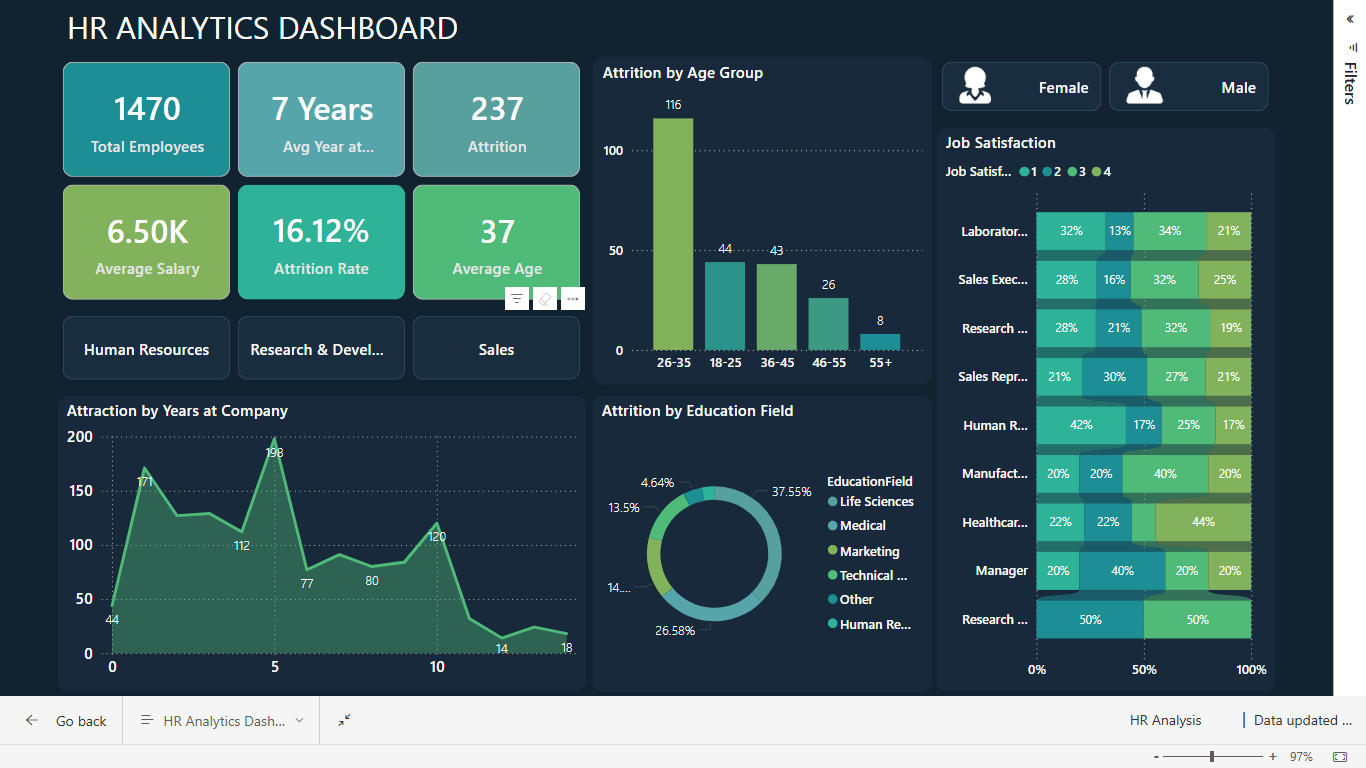

The dashboard page shown, as its layout file describes it:
{"tool":"powerbi","page":{"name":"HR Analytics Dashboard","canvas":[1280,720],"ordinal":0},"visuals":[{"type":"areaChart","title":"Attraction by Years at Company","fields":{"Category":["HR_Analytics.YearsAtCompany"],"Y":["DAX Measures.Count_of_Attraction"]},"box":[10,410.1,546.2,305.5],"z":0},{"type":"donutChart","title":"Attrition by Education Field","fields":{"Y":["DAX Measures.Employee_Attrition"],"Category":["HR_Analytics.EducationField"]},"box":[564.2,410,351.2,305.6],"z":1000},{"type":"columnChart","title":"Attrition by Age Group","fields":{"Category":["HR_Analytics.AgeGroup"],"Y":["DAX Measures.Employee_Attrition"]},"box":[564.2,58.8,351.2,339.4],"z":2000},{"type":"hundredPercentStackedBarChart","title":"Job Satisfaction","fields":{"Category":["HR_Analytics.JobRole"],"Y":["DAX Measures.Employee_Attrition"],"Series":["HR_Analytics.JobSatisfaction"]},"box":[919.7,132.8,350.3,582.7],"z":3000},{"type":"cardVisual","fields":{"Data":["DAX Measures.Employee_Count","DAX Measures.Years_With_Text","DAX Measures.Employee_Attrition","DAX Measures.Avg_Salary","DAX Measures.Attrition%","DAX Measures.Avg_Age"]},"box":[10.3,58.8,546.6,257.1],"z":4000},{"type":"advancedSlicerVisual","fields":{"Values":["HR_Analytics.Gender"]},"box":[919.8,58.8,349.7,61.7],"z":5000},{"type":"image","box":[1109.4,64.7,51.4,48.5],"z":7500},{"type":"image","box":[934.5,64.7,50,48.5],"z":8000},{"type":"advancedSlicerVisual","fields":{"Values":["HR_Analytics.Department"]},"box":[10,322.1,546.2,76.4],"z":8001},{"type":"textbox","box":[10.3,0,423.2,52.9],"z":8002}]}

Visuals, with their boxes on the page's 1280x720 design canvas (x1, y1, x2, y2). These are canvas units, not pixel positions in the 1366x768 screenshot, which may show the page scaled, cropped or inside an application window:
"Attraction by Years at Company" areaChart: box(10, 410, 556, 716)
"Attrition by Education Field" donutChart: box(564, 410, 915, 716)
"Attrition by Age Group" columnChart: box(564, 59, 915, 398)
"Job Satisfaction" hundredPercentStackedBarChart: box(920, 133, 1270, 716)
cardVisual - DAX Measures.Employee_Count x DAX Measures.Years_With_Text: box(10, 59, 557, 316)
advancedSlicerVisual - HR_Analytics.Gender: box(920, 59, 1270, 120)
image: box(1109, 65, 1161, 113)
image: box(934, 65, 984, 113)
advancedSlicerVisual - HR_Analytics.Department: box(10, 322, 556, 398)
textbox: box(10, 0, 434, 53)
